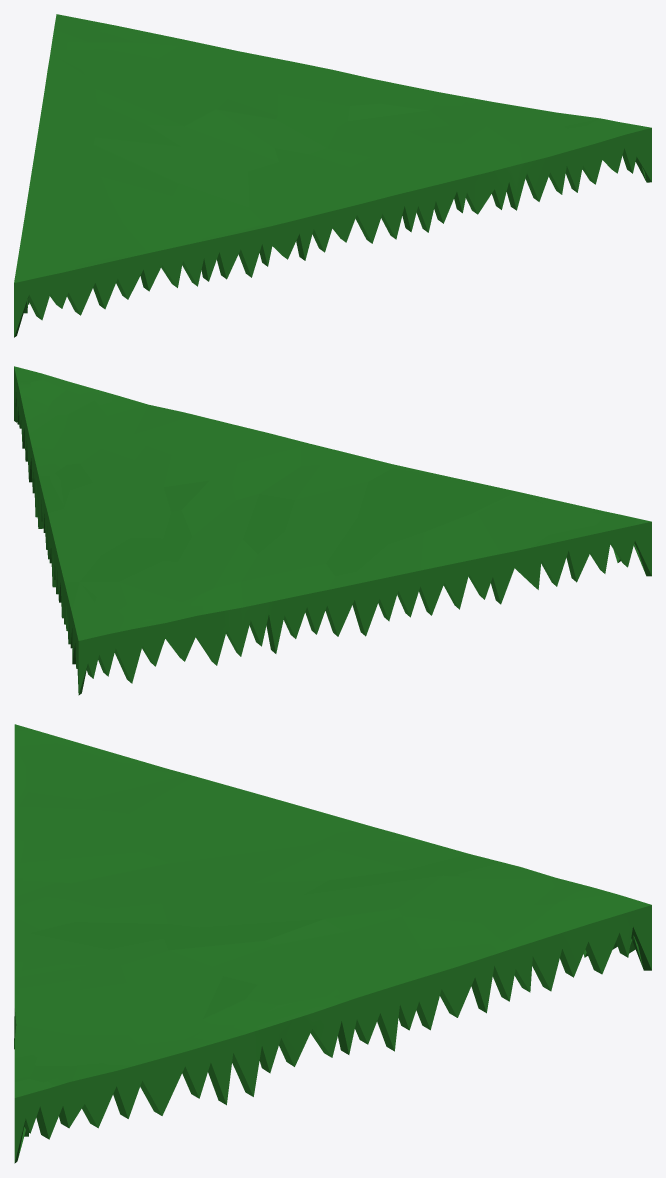
Rendered from grass_layer_triangle_medium.fbx.
3 views of the same model, one above another, from view 1: azimuth 30°, elevation 25°; view 2: azimuth 150°, elevation 25°; view 3: azimuth 270°, elevation 25° (orthographic). The views are drawn at different scales.
Visible parts, largest first — view 1: grass_layer_triangle_medium; view 2: grass_layer_triangle_medium; view 3: grass_layer_triangle_medium.
Boxes of the visible parts, x1,y1,x2,y2 form: grass_layer_triangle_medium: [14, 14, 651, 337]; grass_layer_triangle_medium: [14, 366, 651, 695]; grass_layer_triangle_medium: [14, 724, 651, 1163].
Size of the model in its own units: 824 by 74.59 by 594.
